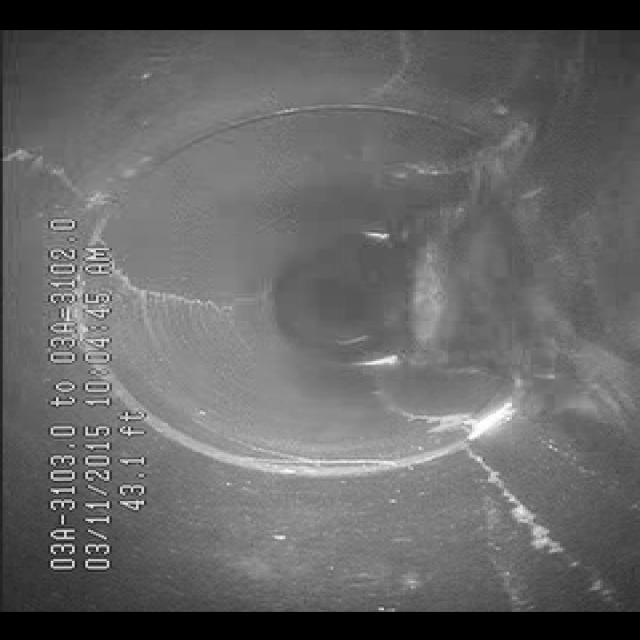Crack: (0, 140, 108, 197), (354, 44, 431, 99)
